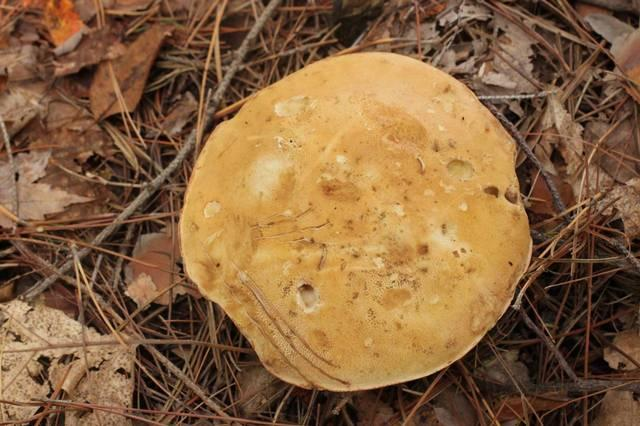Non-edible Mushroom: (177, 49, 534, 393)
